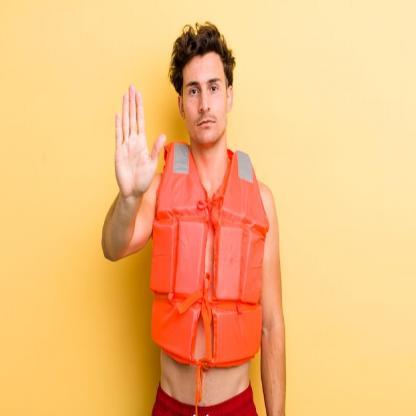stop: (113, 81, 168, 204)
